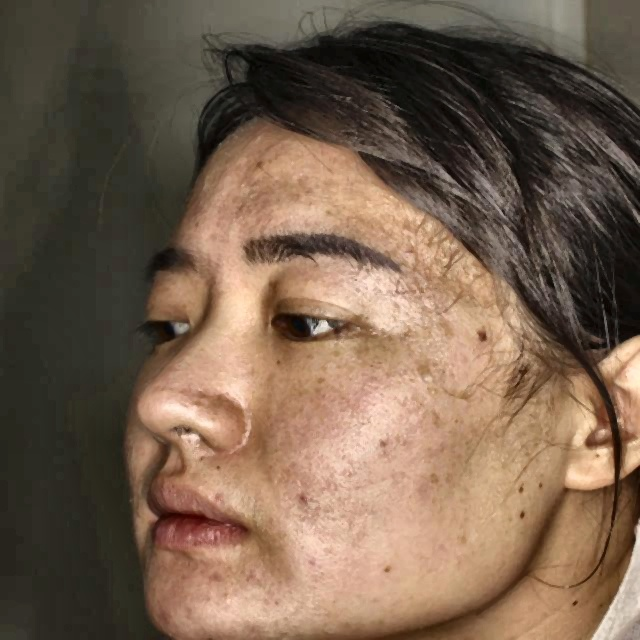comedone: (246, 131, 272, 156), (404, 240, 426, 264)
